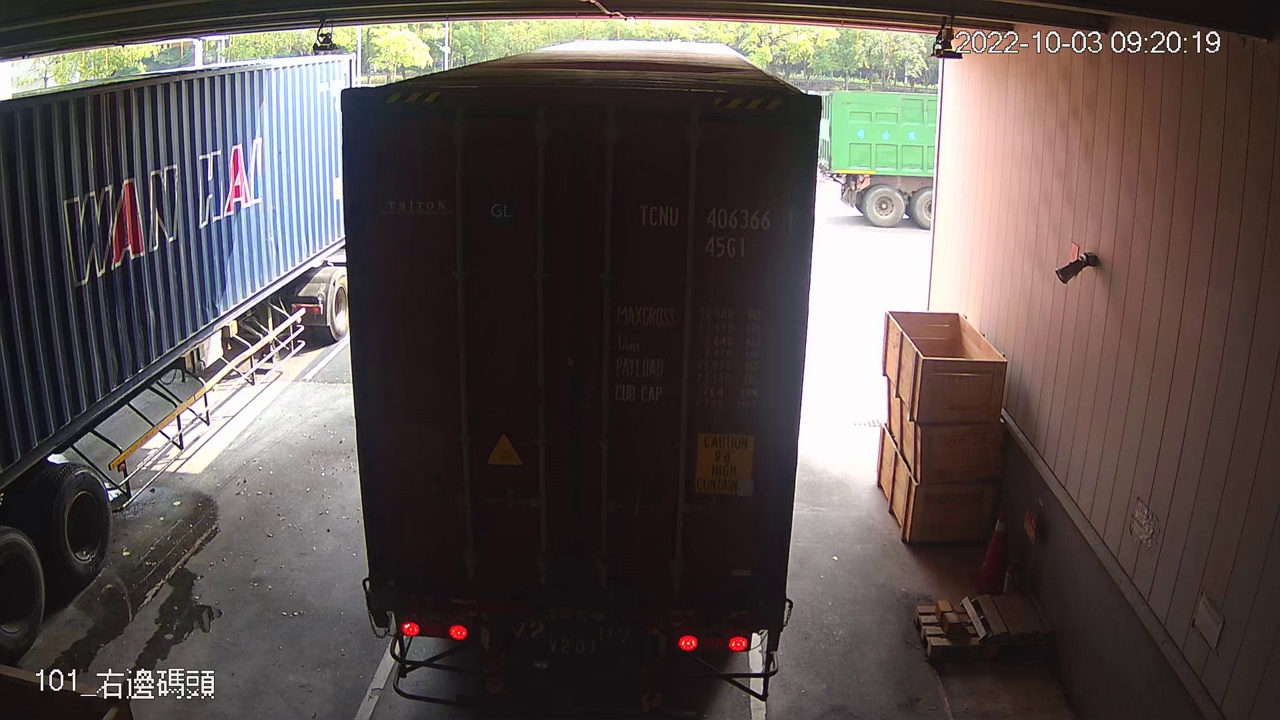container: (626, 195, 803, 264)
